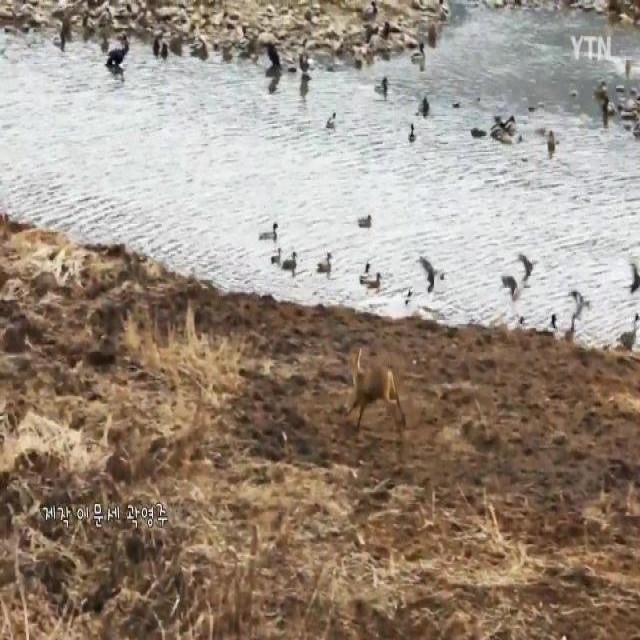deer: (343, 346, 409, 434)
